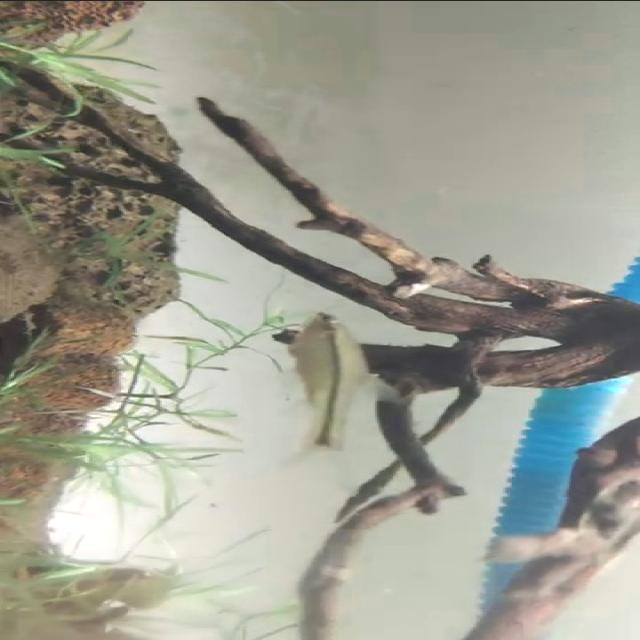Cakil Baligi: (266, 295, 400, 461)
